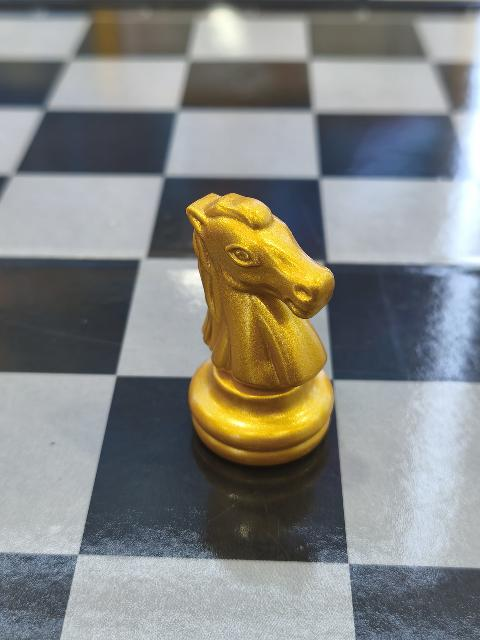black_knight: (184, 192, 338, 463)
